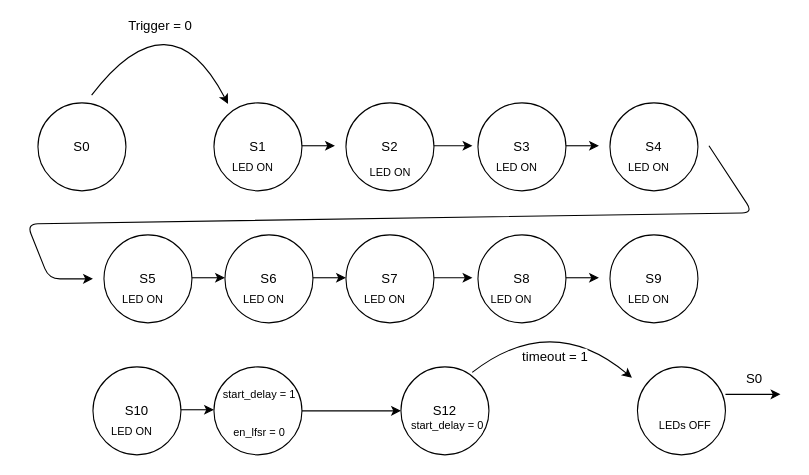
The diagram is 809 pixels wide and 475 high, and some of its shapes have lost their labels. The centre of each missing label's shape, as x and y in pixels:
S11: pixel 257 410
S13: pixel 680 410
